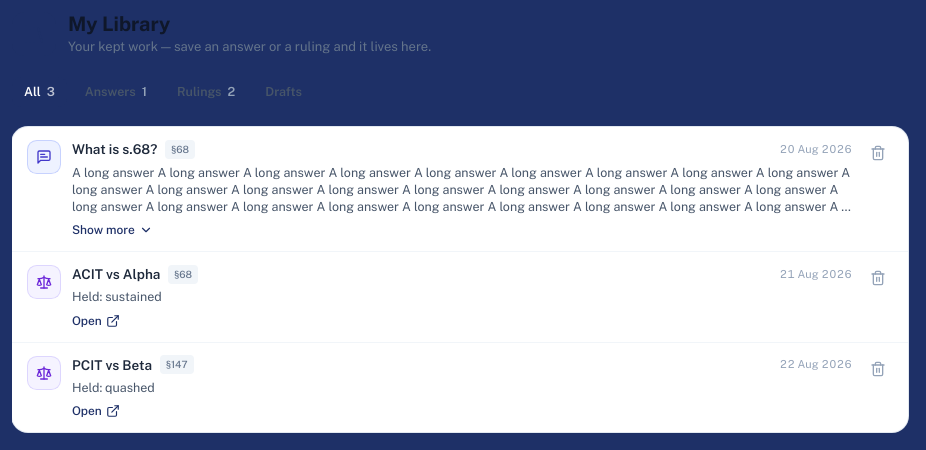
Test: Library page › deletes an item and removes it from the list
Check: the text "ACIT vs Alpha" is shown, box left=72, top=264, right=160, bottom=284
Click the button named "remove from library" next to "20 Aug 2026" at [878, 153], box left=864, top=139, right=892, bottom=167
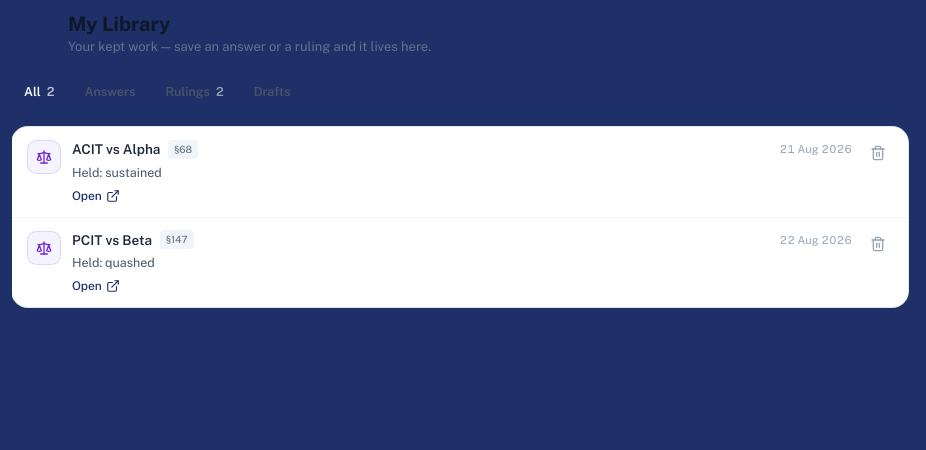
Check: the text "What is s.68?" is gone
